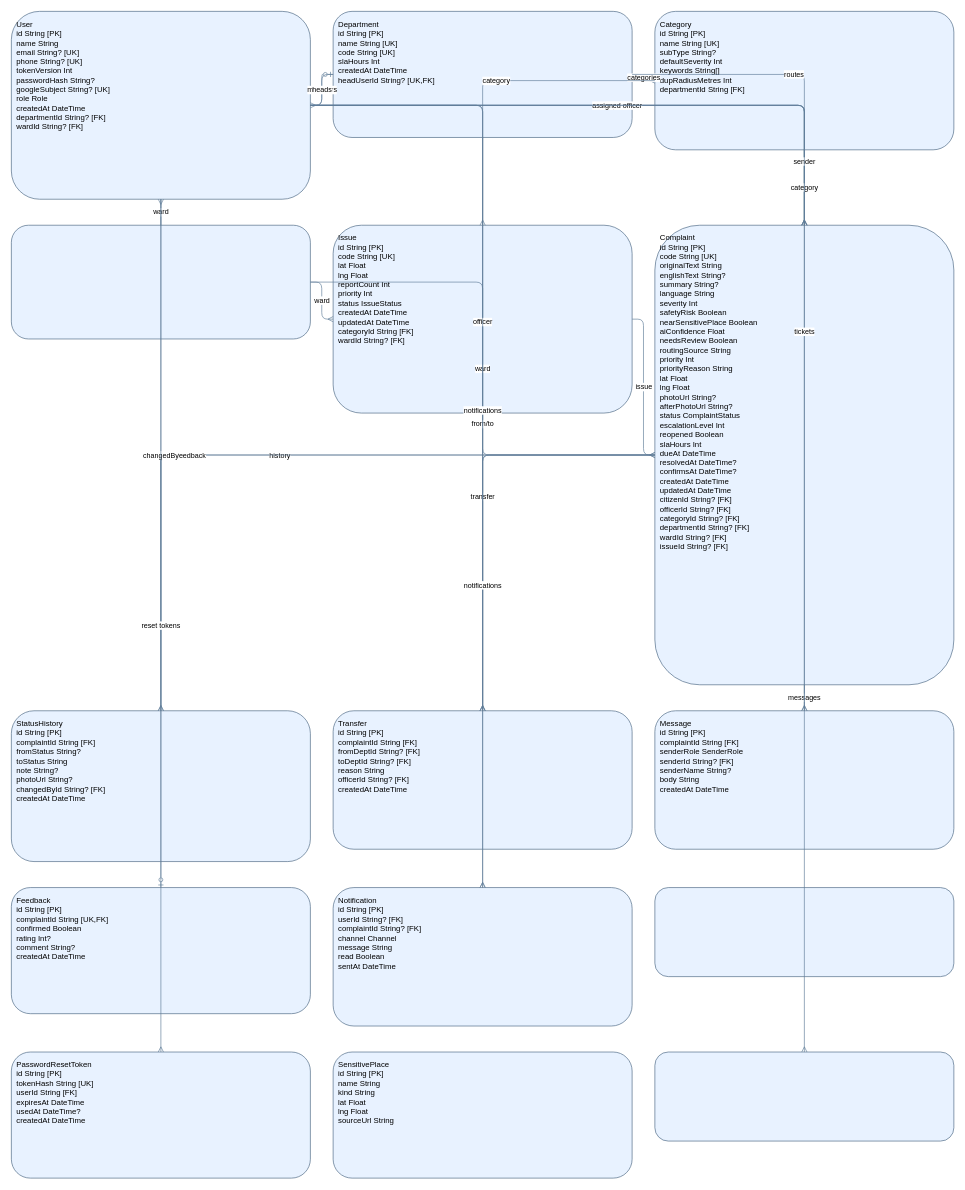
Some shapes in this 965 by 1190 pixel diagram are drawn without their labels. Here are the shapes that lost their labels. From the top down, the box of each, then its label:
(11, 225, 310, 339): Ward id String [PK] name String [UK] lat Float lng Float boundary Json?
(654, 887, 954, 977): Setting key String [PK] value String updatedAt DateTime
(654, 1051, 954, 1141): GoogleLoginTicket tokenHash String [PK] userId String [FK] expiresAt DateTime
